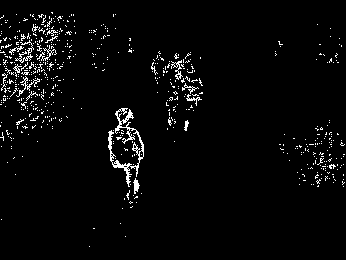person: (110, 103, 152, 211)
